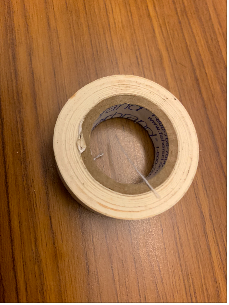Nonfood: (66, 80, 192, 210)
